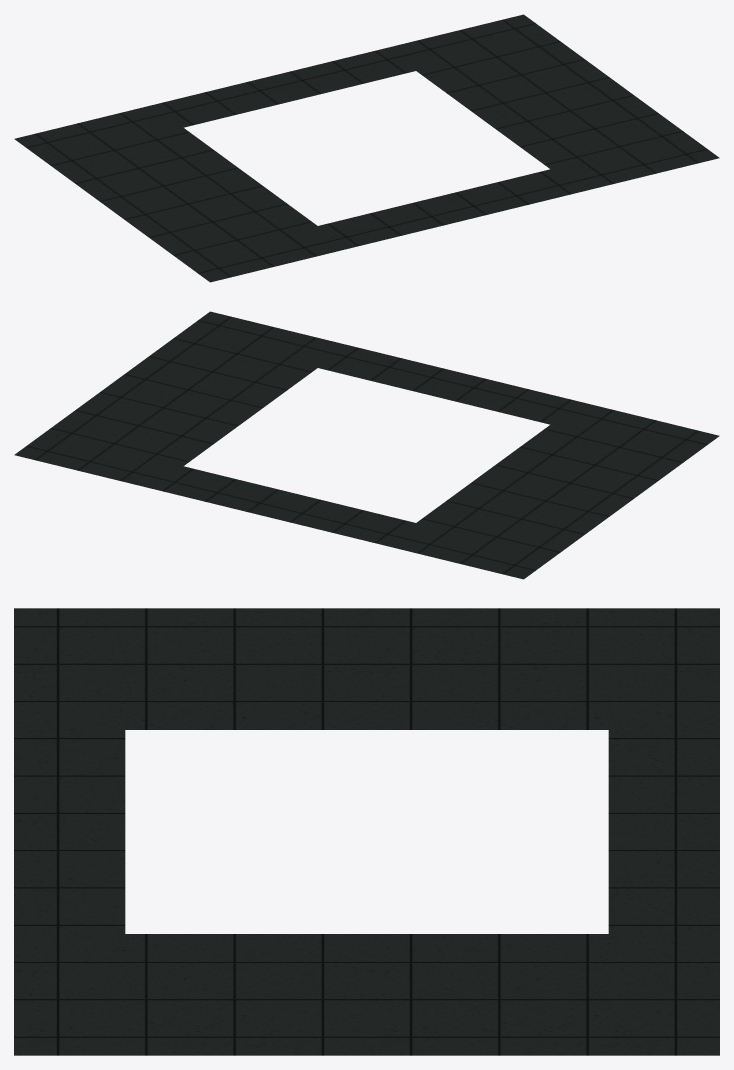
Rendered from ServerRoomCeiling.fbx.
3 renders of one model, top to bottom at view 1: azimuth 30°, elevation 25°; view 2: azimuth 150°, elevation 25°; view 3: azimuth 270°, elevation 25°, orthographic. The views are drawn at different scales.
Parts seen in each view (by area): view 1: ServerRoom_Floor5; view 2: ServerRoom_Floor5; view 3: ServerRoom_Floor5.
Boxes of the visible parts, box(x1,y1,x2,y2) form: ServerRoom_Floor5: box(14, 14, 719, 282); ServerRoom_Floor5: box(14, 311, 719, 579); ServerRoom_Floor5: box(14, 608, 719, 1055).
Bounding box in the file's own units: 1125 × 0 × 750.
1 material, 1 textured.
